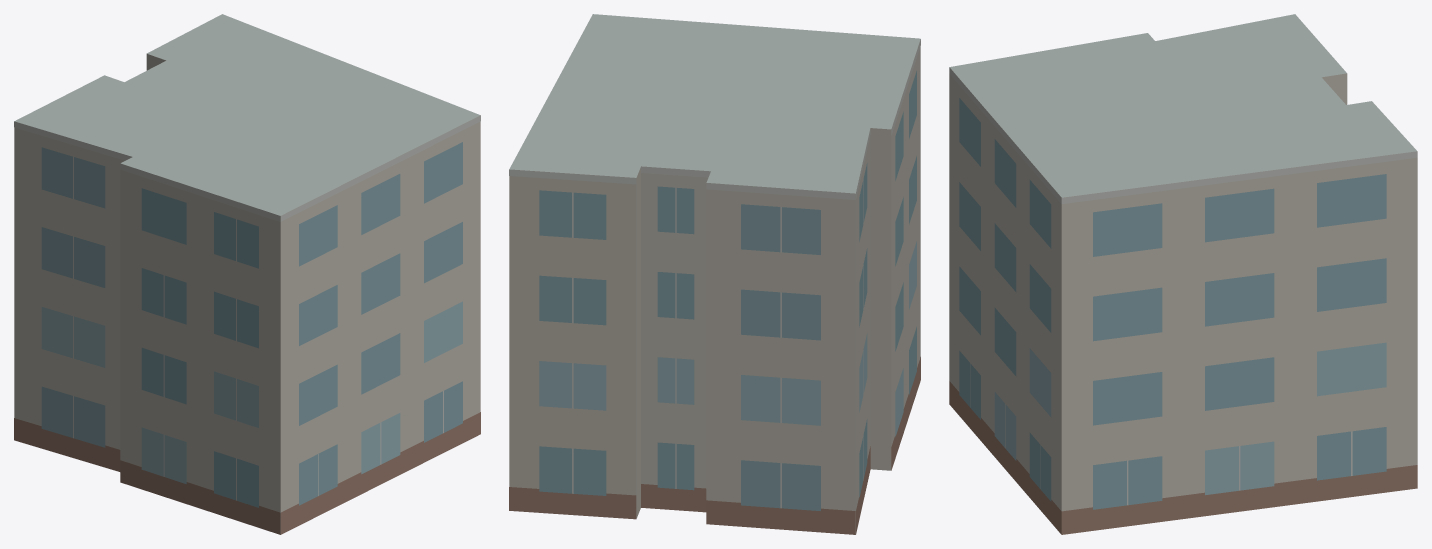
The model's file is survey-upis-33032376.glb.
3 views of the same model, side by side, from view 1: azimuth 30°, elevation 25°; view 2: azimuth 150°, elevation 25°; view 3: azimuth 270°, elevation 25° (orthographic). The views are drawn at different scales.
Visible parts, largest first — view 1: survey-upis-33032376.tmp; view 2: survey-upis-33032376.tmp; view 3: survey-upis-33032376.tmp.
Part boxes in pixels (x1,y1,x2,y2): survey-upis-33032376.tmp: [14, 14, 480, 534]; survey-upis-33032376.tmp: [509, 14, 920, 534]; survey-upis-33032376.tmp: [949, 14, 1417, 534].
Bounding box in the file's own units: 14.91 × 12.75 × 16.06.
